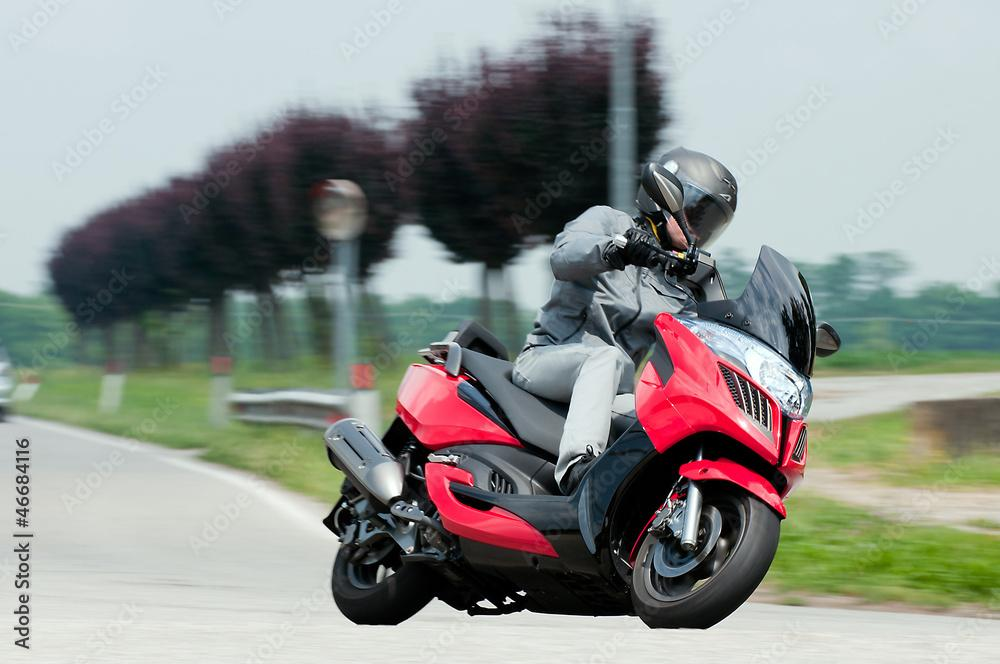helmet: (633, 145, 739, 257)
